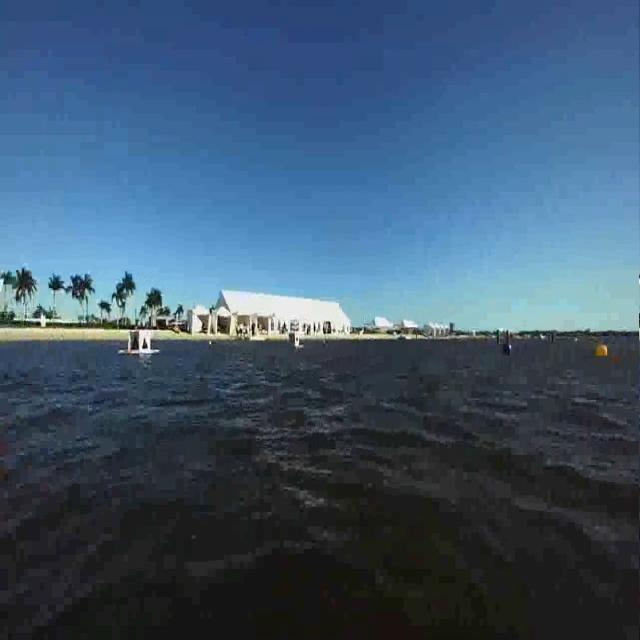blue-buoy: (504, 340, 513, 359)
yellow-buoy: (596, 342, 610, 360)
